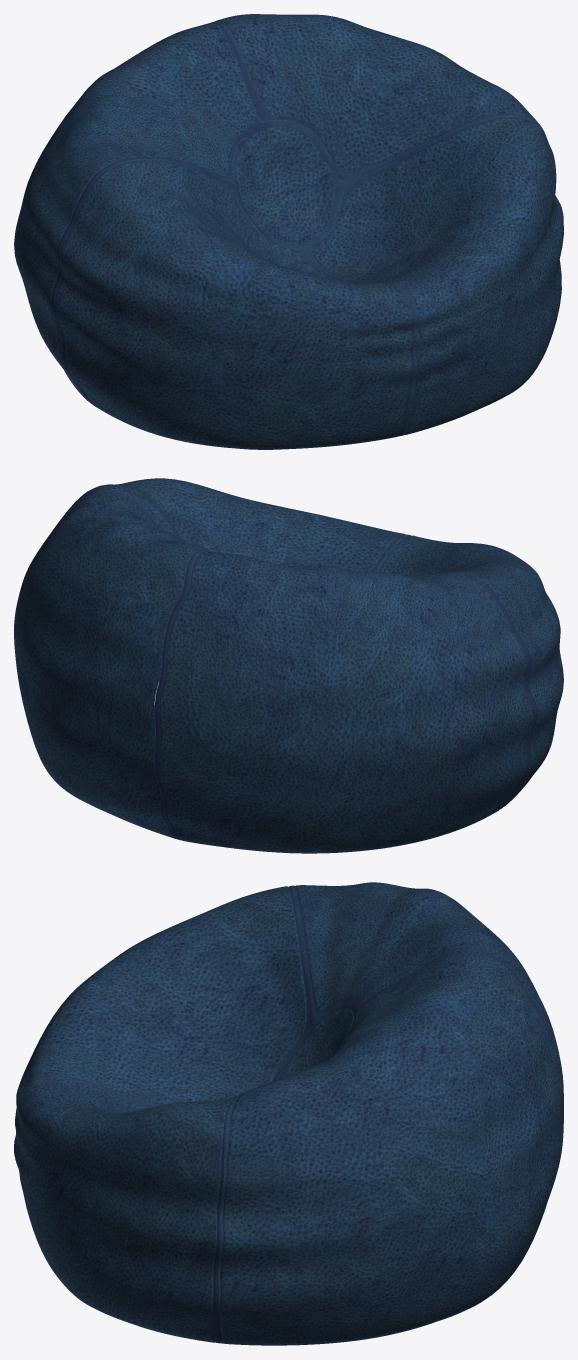
3 views of the same model, one above another, from view 1: azimuth 30°, elevation 25°; view 2: azimuth 150°, elevation 25°; view 3: azimuth 270°, elevation 25° (orthographic). The views are drawn at different scales.
Visible parts, largest first — view 1: beanbag; view 2: beanbag; view 3: beanbag.
Boxes of the visible parts, box(x1,y1,x2,y2) form: beanbag: box(14, 14, 563, 449); beanbag: box(14, 478, 563, 853); beanbag: box(14, 882, 563, 1345).
Size of the model in its own units: 1.24 by 0.652 by 1.11.
Materials: 1 (1 with a texture image).
